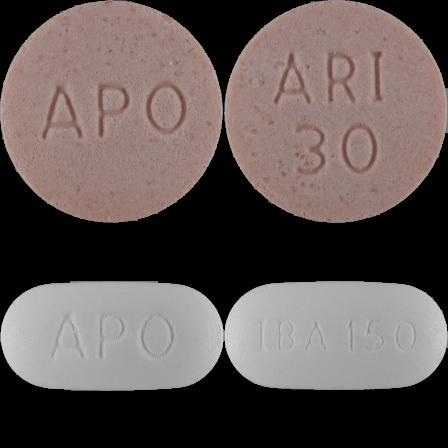60505-2677: (0, 0, 224, 224)
